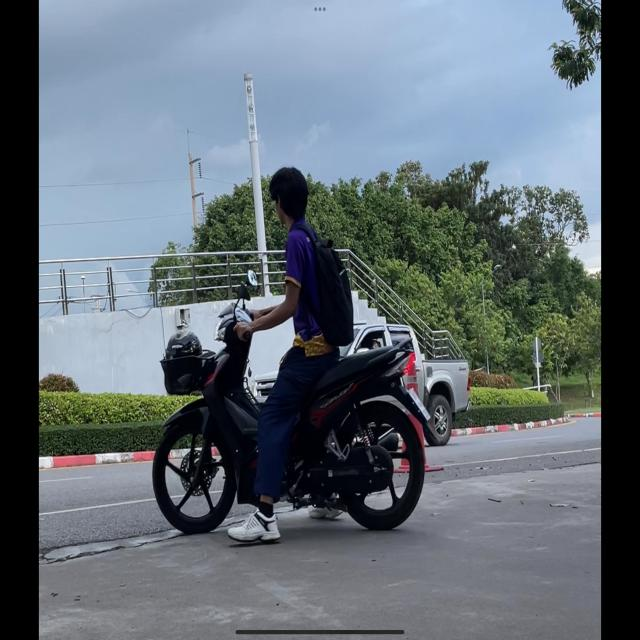seatbelt: (267, 165, 311, 228)
